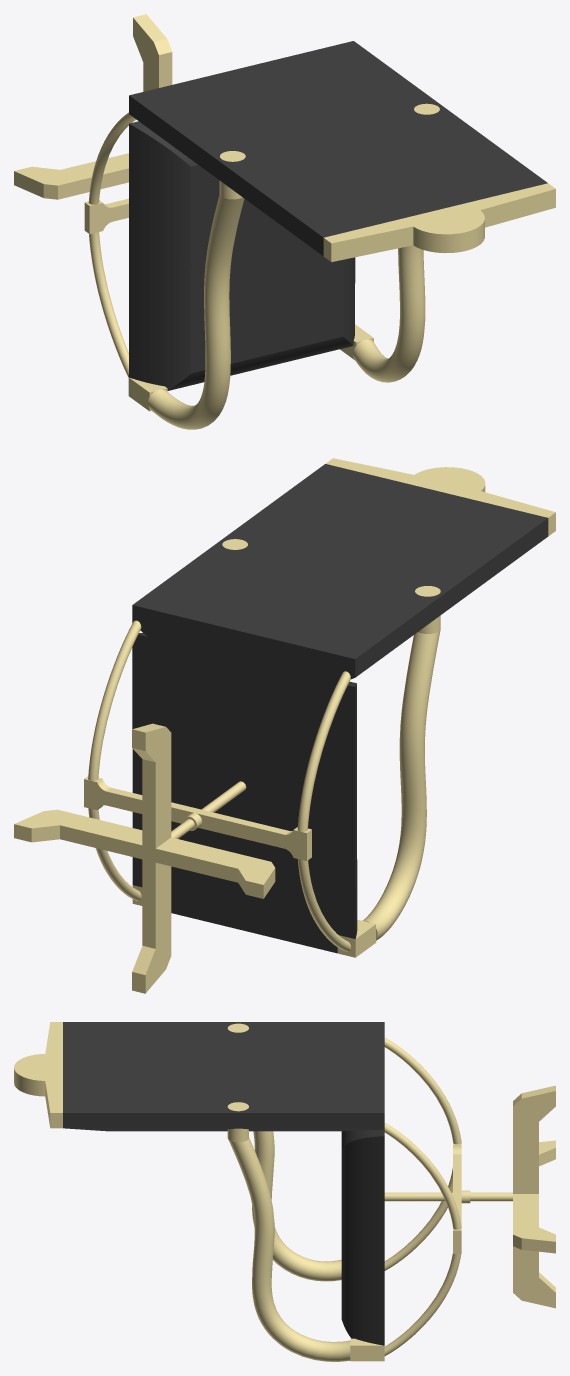
Rendered from Taburete Isra.fbx.
3 renders of one model, top to bottom at view 1: azimuth 30°, elevation 25°; view 2: azimuth 150°, elevation 25°; view 3: azimuth 270°, elevation 25°, orthographic. The views are drawn at different scales.
Visible parts, largest first — view 1: Body4 (×2), Body7, Body1 (×6), Body5; view 2: Body4 (×2), Body7, Body1 (×7); view 3: Body4 (×2), Body1 (×10), Body7, Body5.
Part boxes in pixels (x1,y1,x2,y2): Body4 (×2): (129, 41, 547, 429); Body7: (128, 121, 355, 390); Body1 (×6): (14, 14, 555, 411); Body5: (353, 245, 425, 382); Body4 (×2): (132, 464, 548, 940); Body7: (132, 633, 357, 953); Body1 (×7): (14, 458, 555, 993); Body4 (×2): (63, 1022, 384, 1281); Body1 (×10): (14, 1022, 555, 1361); Body7: (341, 1129, 384, 1345); Body5: (228, 1137, 350, 1361).
Bounding box in the file's own units: 280 × 326 × 632.
